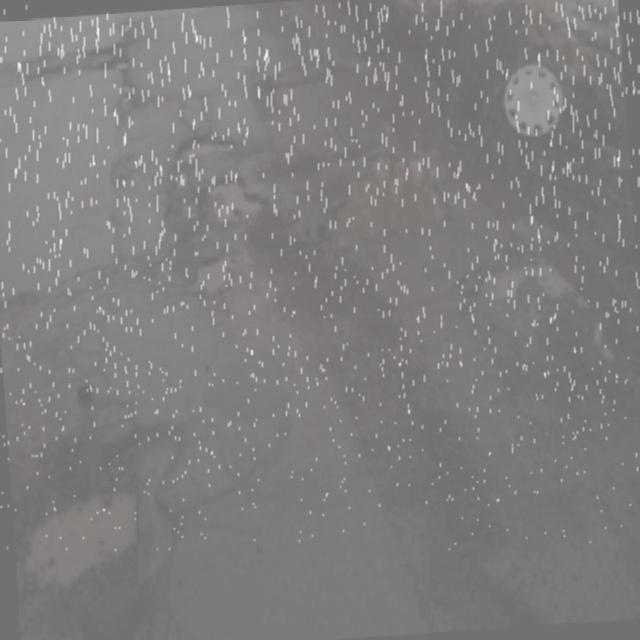Pothole: (147, 90, 285, 318), (299, 142, 445, 270), (18, 466, 145, 607), (455, 247, 585, 330), (47, 364, 147, 436), (0, 273, 51, 346)
